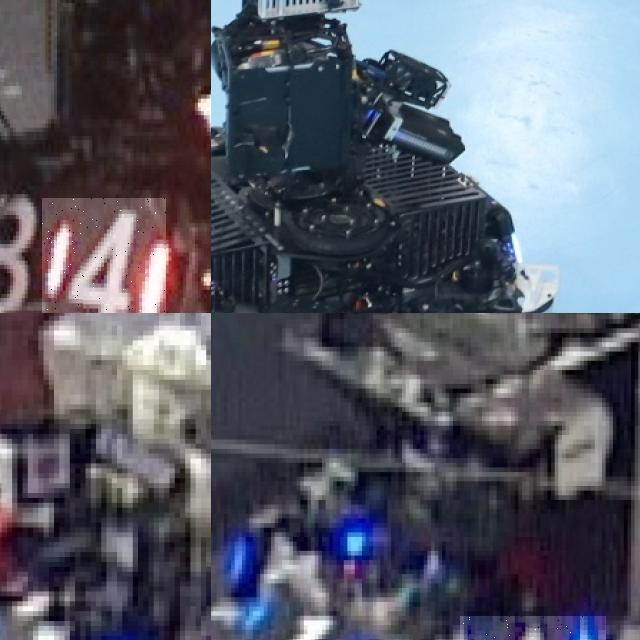B1: (245, 601, 369, 640), (0, 611, 132, 640), (460, 615, 605, 640)
R4: (42, 198, 165, 313)
